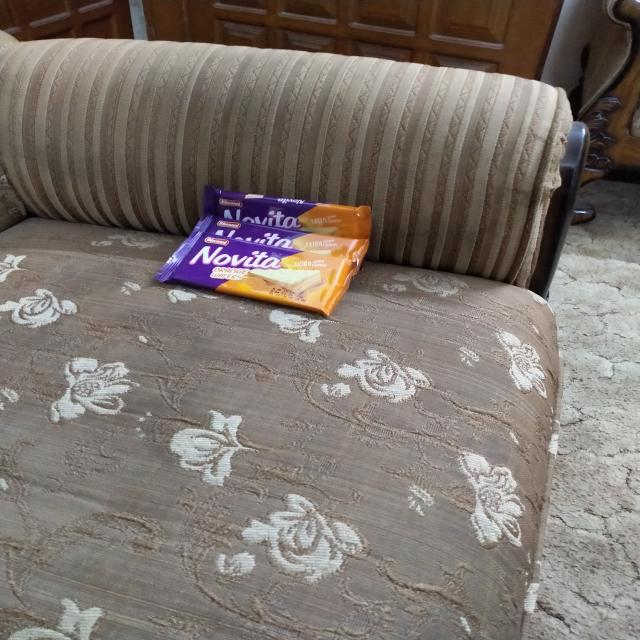Plastic: (160, 252, 349, 315), (207, 188, 375, 222), (202, 229, 361, 241)
